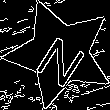N_NE: (28, 21, 91, 86)
